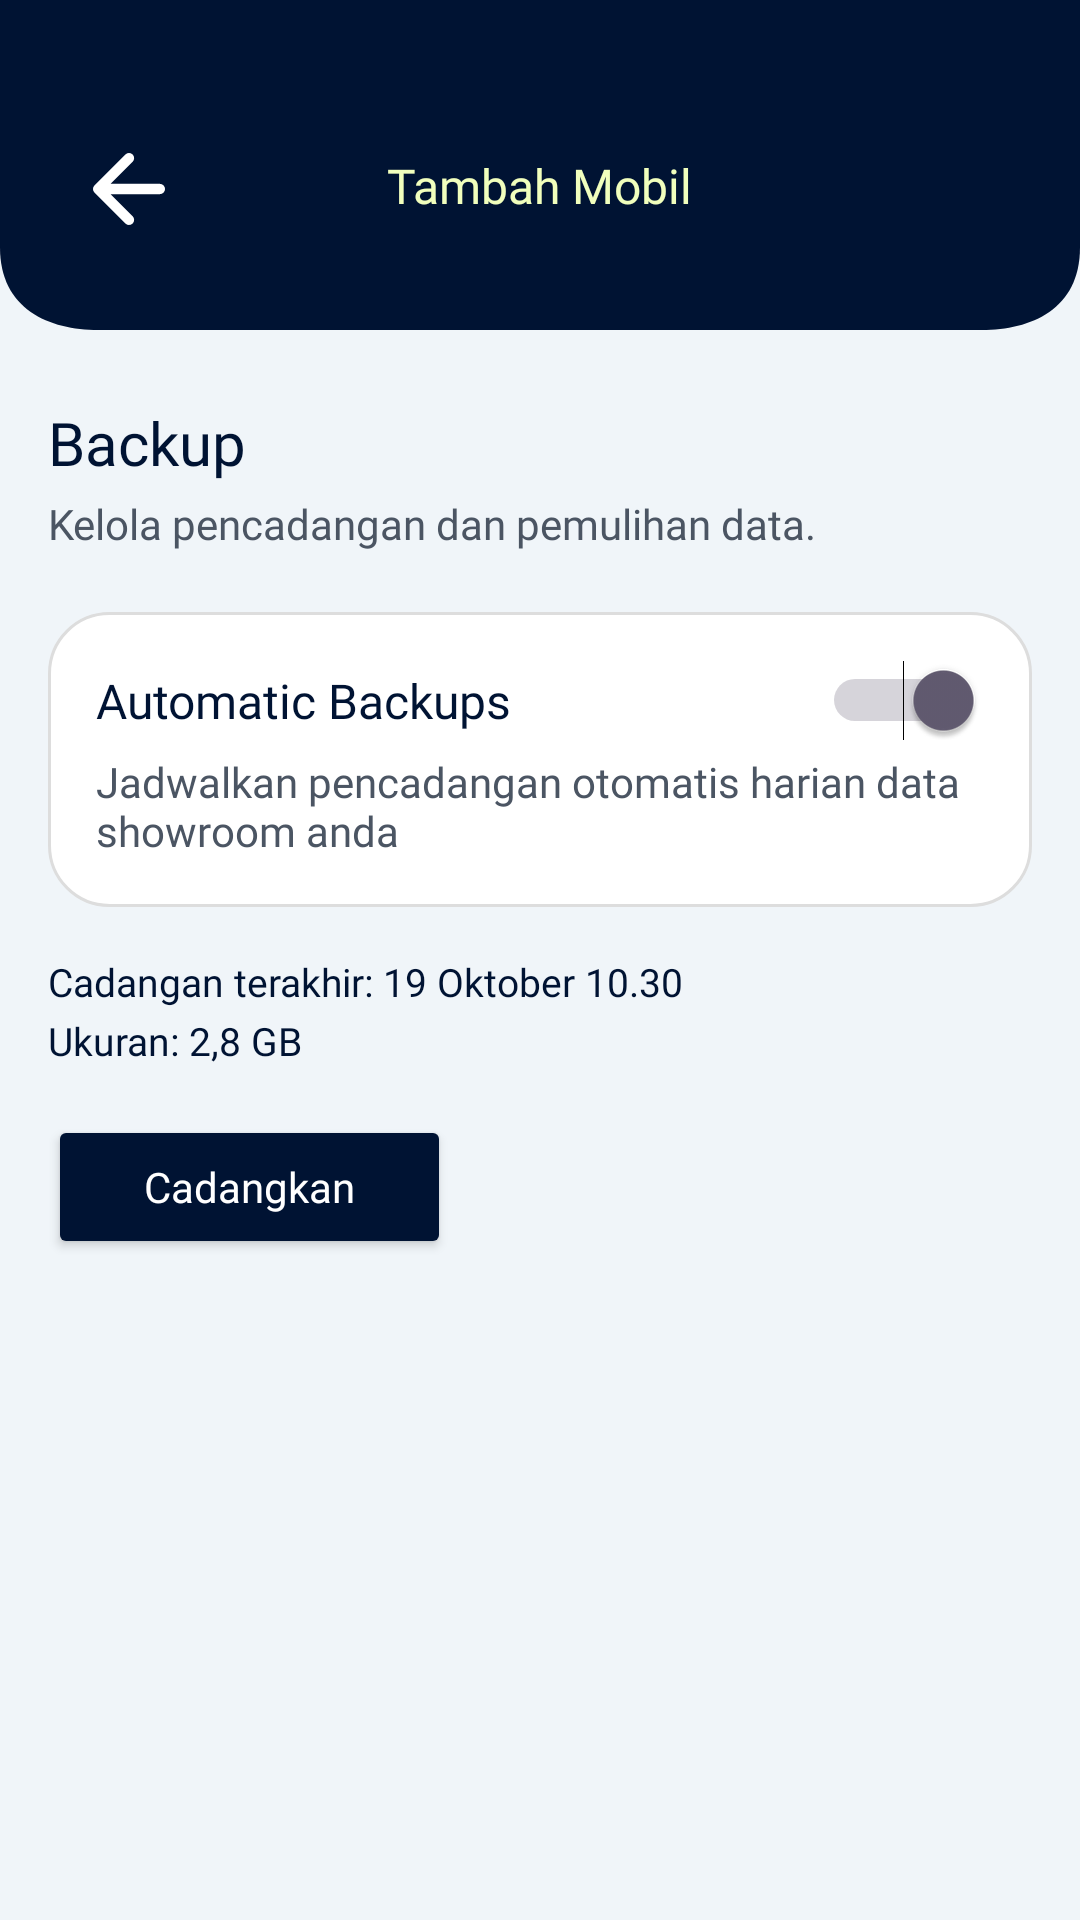

Icons on this 1080 × 1920 Android screen, each with the point to tap as (x=x, y=y):
back: (x=129, y=189)
